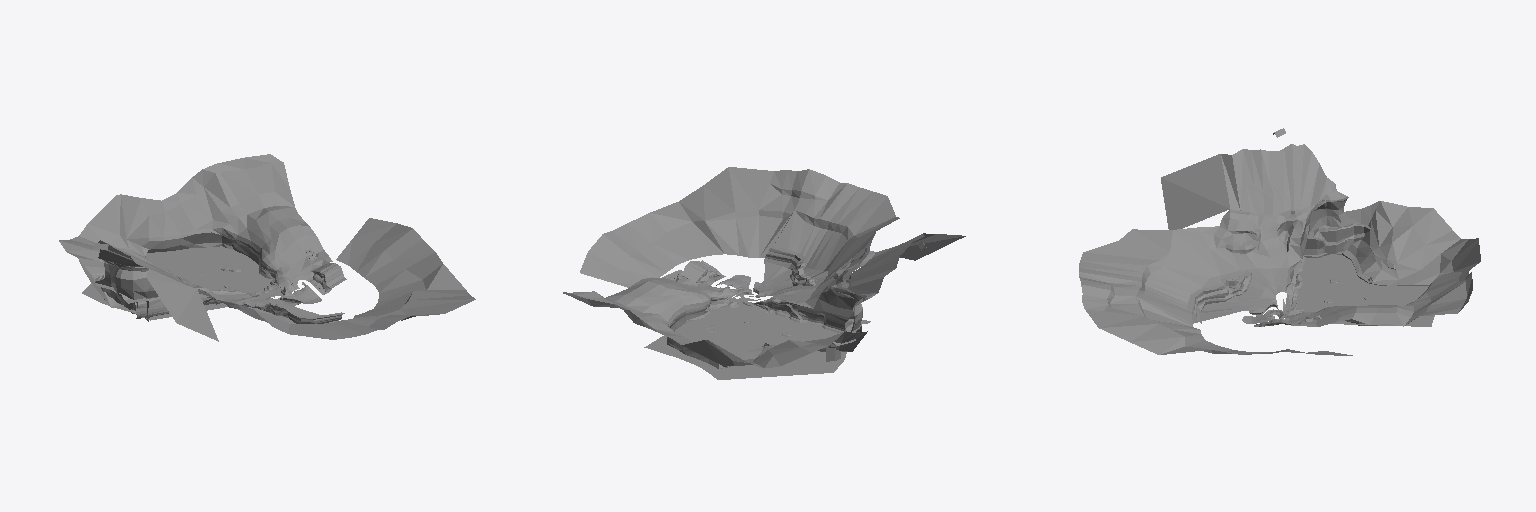
The picture shows the model from 3 angles: view 1: azimuth 30°, elevation 25°; view 2: azimuth 150°, elevation 25°; view 3: azimuth 270°, elevation 25°; orthographic projection.
Visible parts, largest first — view 1: E_SnowA_Terrain_02; view 2: E_SnowA_Terrain_02; view 3: E_SnowA_Terrain_02.
Boxes of the visible parts, box(x1,y1,x2,y2) form: E_SnowA_Terrain_02: box(59, 154, 475, 341); E_SnowA_Terrain_02: box(563, 167, 965, 379); E_SnowA_Terrain_02: box(1079, 128, 1480, 355).
Size of the model in its own units: 4774 by 1429 by 5162.